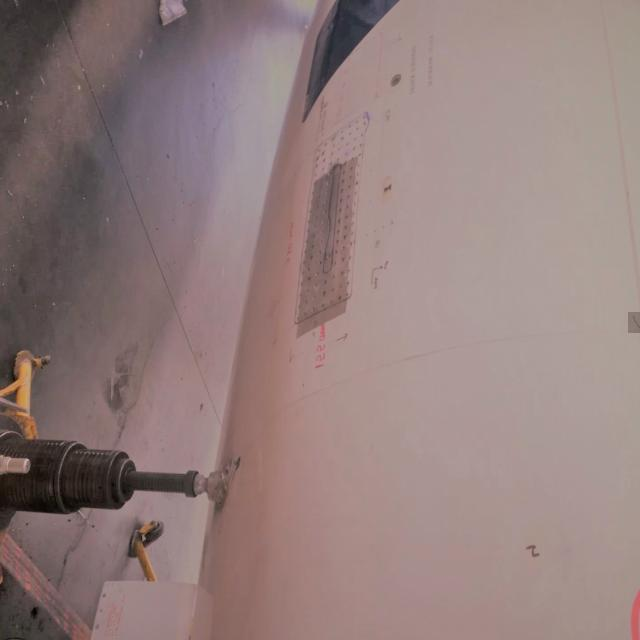crack: (629, 313, 640, 334)
